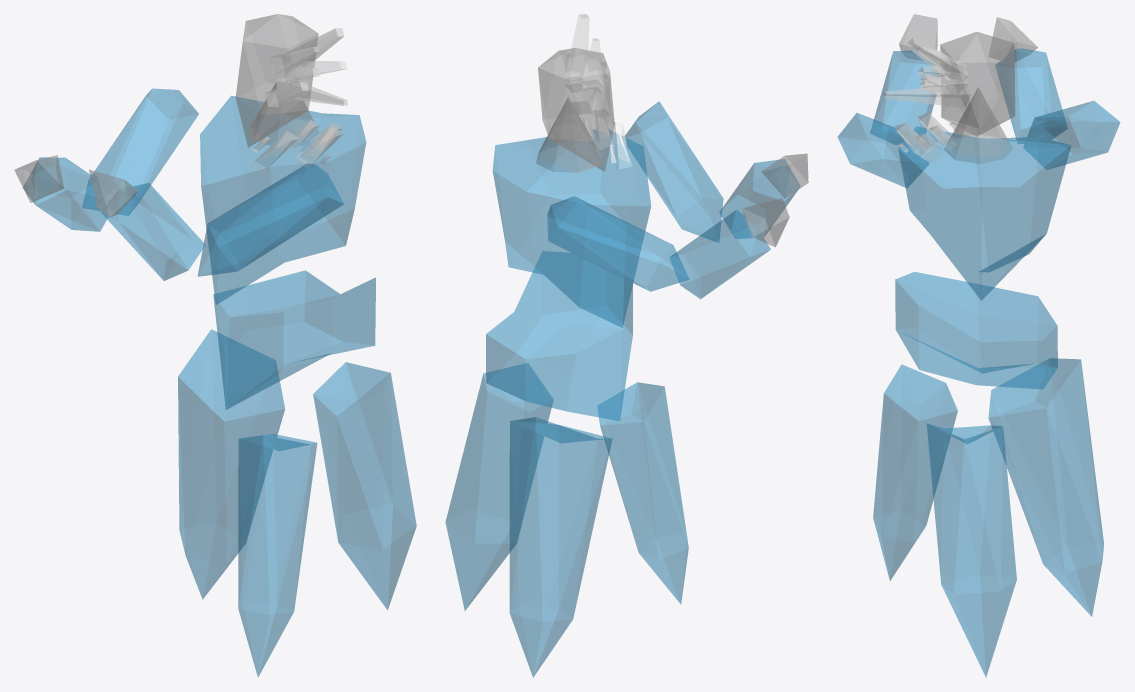
The model's file is ghostDistanceAttack20.obj.
The picture shows the model from 3 angles, left to right: view 1: azimuth 30°, elevation 25°; view 2: azimuth 150°, elevation 25°; view 3: azimuth 270°, elevation 25°; orthographic projection. The views are drawn at different scales.
Visible parts, largest first — view 1: Cube.001_Cube.007, Icosphere.020, Icosphere.019, Cube_Cube.007, Icosphere.018, Icosphere.005_Icosphere.007, Icosphere.003_Icosphere.007, Icosphere.007_Icosphere.006, Icosphere.006_Icosphere.006, Icosphere.008_Icosphere.006, Cone_Cone.007, Cube.003_Cube.007 (+7 smaller); view 2: Cube.001_Cube.007, Cube_Cube.007, Icosphere.020, Icosphere.019, Icosphere.018, Icosphere.003_Icosphere.007, Icosphere.007_Icosphere.006, Icosphere.005_Icosphere.007, Icosphere.008_Icosphere.006, Icosphere.006_Icosphere.006, Cone_Cone.007, Cube.003_Cube.007 (+4 smaller); view 3: Cube.001_Cube.007, Icosphere.020, Icosphere.019, Cube_Cube.007, Icosphere.018, Icosphere.003_Icosphere.007, Icosphere.008_Icosphere.006, Icosphere.007_Icosphere.006, Icosphere.006_Icosphere.006, Icosphere.005_Icosphere.007, Cone_Cone.007, Cube.003_Cube.007 (+6 smaller).
Boxes of the visible parts, x1,y1,x2,y2 form: Cube.001_Cube.007: (200, 95, 366, 304); Icosphere.020: (178, 329, 284, 599); Icosphere.019: (313, 362, 416, 609); Cube_Cube.007: (213, 270, 375, 409); Icosphere.018: (238, 434, 317, 676); Icosphere.005_Icosphere.007: (197, 163, 343, 276); Icosphere.003_Icosphere.007: (235, 14, 318, 147); Icosphere.007_Icosphere.006: (82, 88, 198, 215); Icosphere.006_Icosphere.006: (101, 183, 205, 280); Icosphere.008_Icosphere.006: (23, 157, 112, 231); Cone_Cone.007: (249, 83, 318, 145); Cube.003_Cube.007: (14, 155, 63, 202); Cube.001_Cube.007: (492, 129, 650, 327); Cube_Cube.007: (486, 251, 632, 420); Icosphere.020: (509, 417, 612, 677); Icosphere.019: (445, 363, 553, 610); Icosphere.018: (597, 382, 688, 603); Icosphere.003_Icosphere.007: (538, 48, 614, 171); Icosphere.007_Icosphere.006: (547, 196, 688, 291); Icosphere.005_Icosphere.007: (625, 101, 723, 242); Icosphere.008_Icosphere.006: (669, 210, 770, 298); Icosphere.006_Icosphere.006: (719, 159, 800, 238); Cone_Cone.007: (536, 97, 599, 172); Cube.003_Cube.007: (742, 198, 789, 247); Cube.001_Cube.007: (898, 126, 1070, 300); Icosphere.020: (988, 358, 1103, 616); Icosphere.019: (926, 423, 1016, 677); Cube_Cube.007: (895, 272, 1057, 389); Icosphere.018: (873, 364, 957, 580); Icosphere.003_Icosphere.007: (940, 32, 1015, 136); Icosphere.008_Icosphere.006: (995, 48, 1067, 143); Icosphere.007_Icosphere.006: (1023, 101, 1120, 169); Icosphere.006_Icosphere.006: (870, 50, 940, 144); Icosphere.005_Icosphere.007: (837, 113, 928, 187); Cone_Cone.007: (944, 87, 1012, 163); Cube.003_Cube.007: (989, 17, 1037, 61).
Size of the model in its own units: 28.64 by 46.36 by 19.88.
